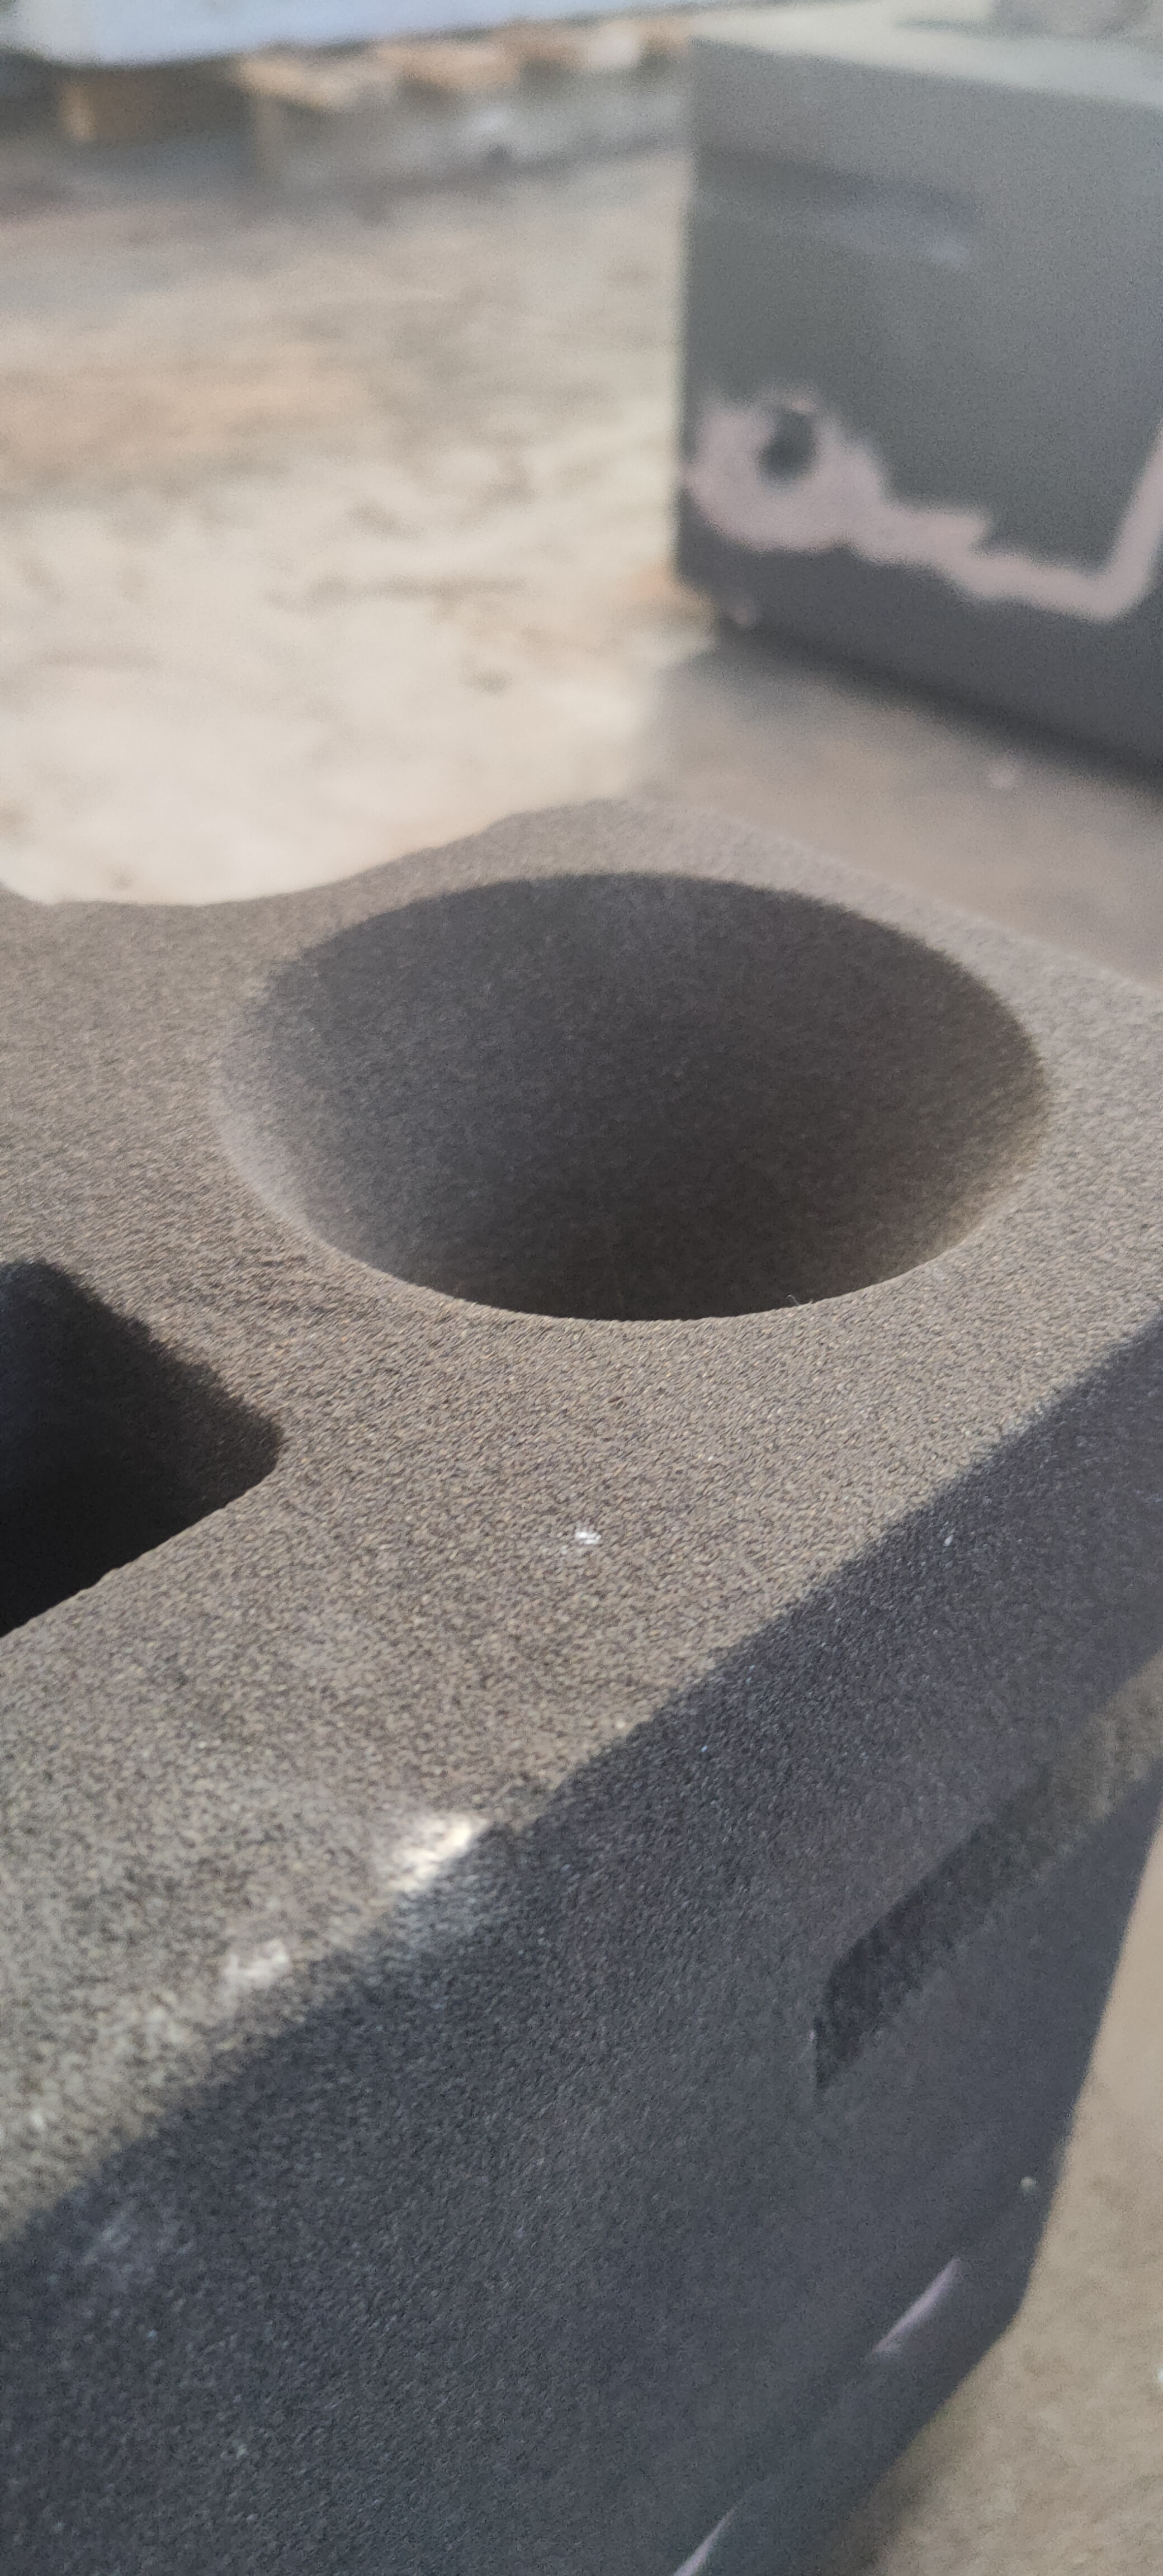pouring hole: (210, 874, 1048, 1324)
